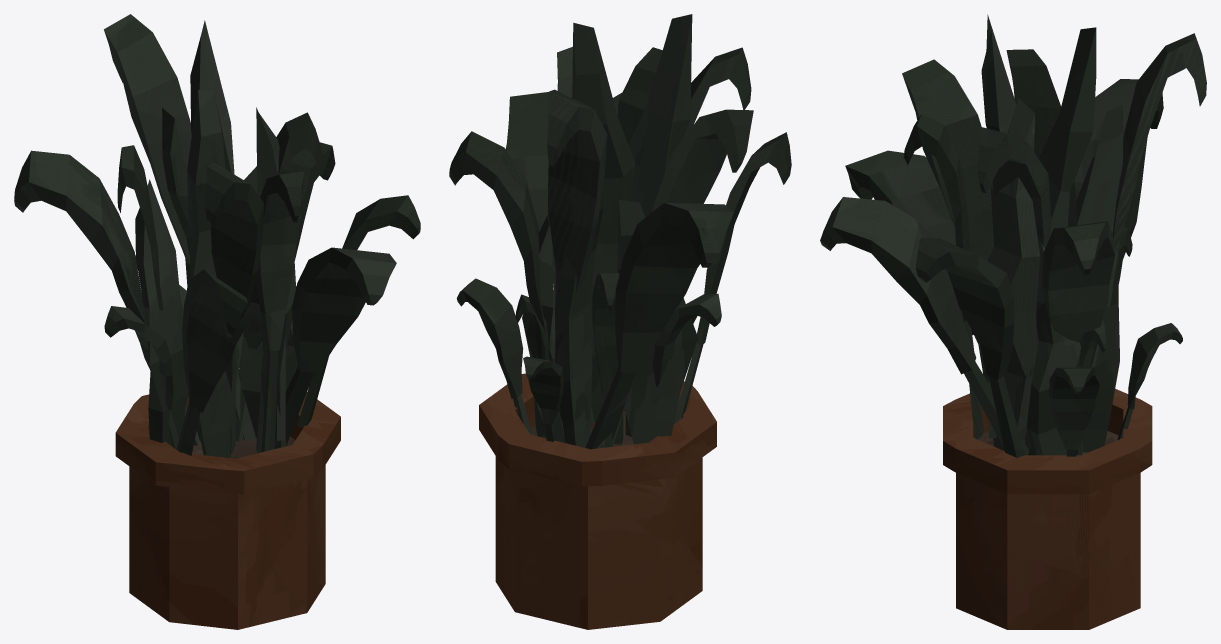
The model's file is M-Plant12mixSmall.fbx.
3 views of the same model, side by side, from view 1: azimuth 30°, elevation 25°; view 2: azimuth 150°, elevation 25°; view 3: azimuth 270°, elevation 25° (orthographic). The views are drawn at different scales.
Parts seen in each view (by area): view 1: Cube.001, Cube, Cube.006; view 2: Cube.001, Cube, Cube.006; view 3: Cube.001, Cube, Cube.006.
Boxes of the visible parts, x1=… form: Cube.001: x1=14, y1=14, x2=420, y2=455; Cube: x1=115, y1=392, x2=340, y2=629; Cube.006: x1=135, y1=20, x2=297, y2=457; Cube.001: x1=449, y1=46, x2=791, y2=449; Cube: x1=479, y1=373, x2=716, y2=629; Cube.006: x1=522, y1=14, x2=697, y2=447; Cube.001: x1=820, y1=33, x2=1206, y2=457; Cube: x1=943, y1=388, x2=1152, y2=629; Cube.006: x1=977, y1=14, x2=1123, y2=455.
Bounding box in the file's own units: 19 × 20.91 × 33.63.
3 materials, 3 textured.
